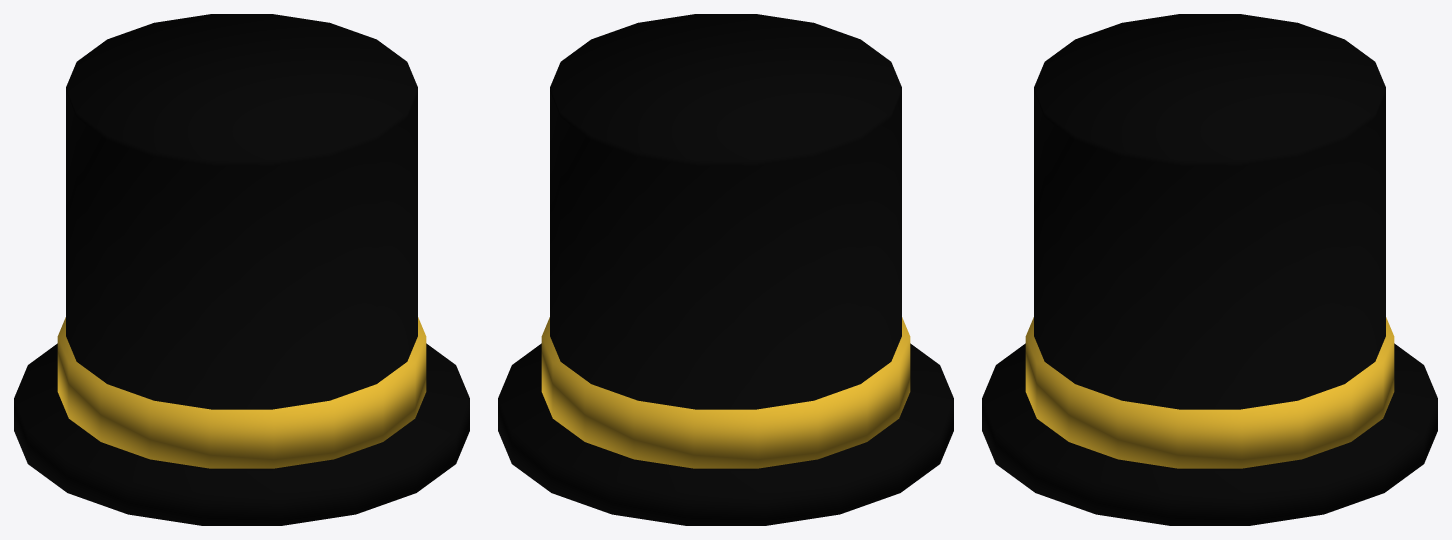
File: bowlerhat.fbx
3 renders of one model, left to right at view 1: azimuth 30°, elevation 25°; view 2: azimuth 150°, elevation 25°; view 3: azimuth 270°, elevation 25°, orthographic.
Visible parts, largest first — view 1: bowlerhat_Circle.001; view 2: bowlerhat_Circle.001; view 3: bowlerhat_Circle.001.
Part boxes in pixels (x1,y1,x2,y2): bowlerhat_Circle.001: (14,14,469,525); bowlerhat_Circle.001: (498,14,953,525); bowlerhat_Circle.001: (982,14,1437,525).
Bounding box in the file's own units: 197 × 167 × 200.
